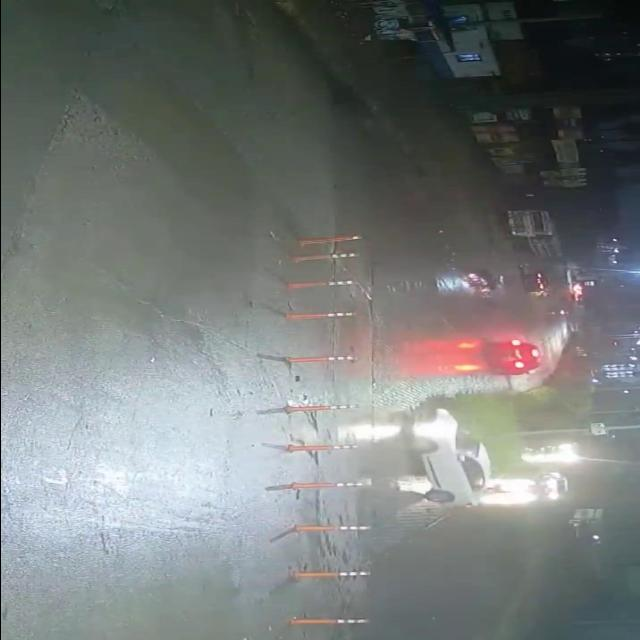accident: (456, 268, 508, 299)
